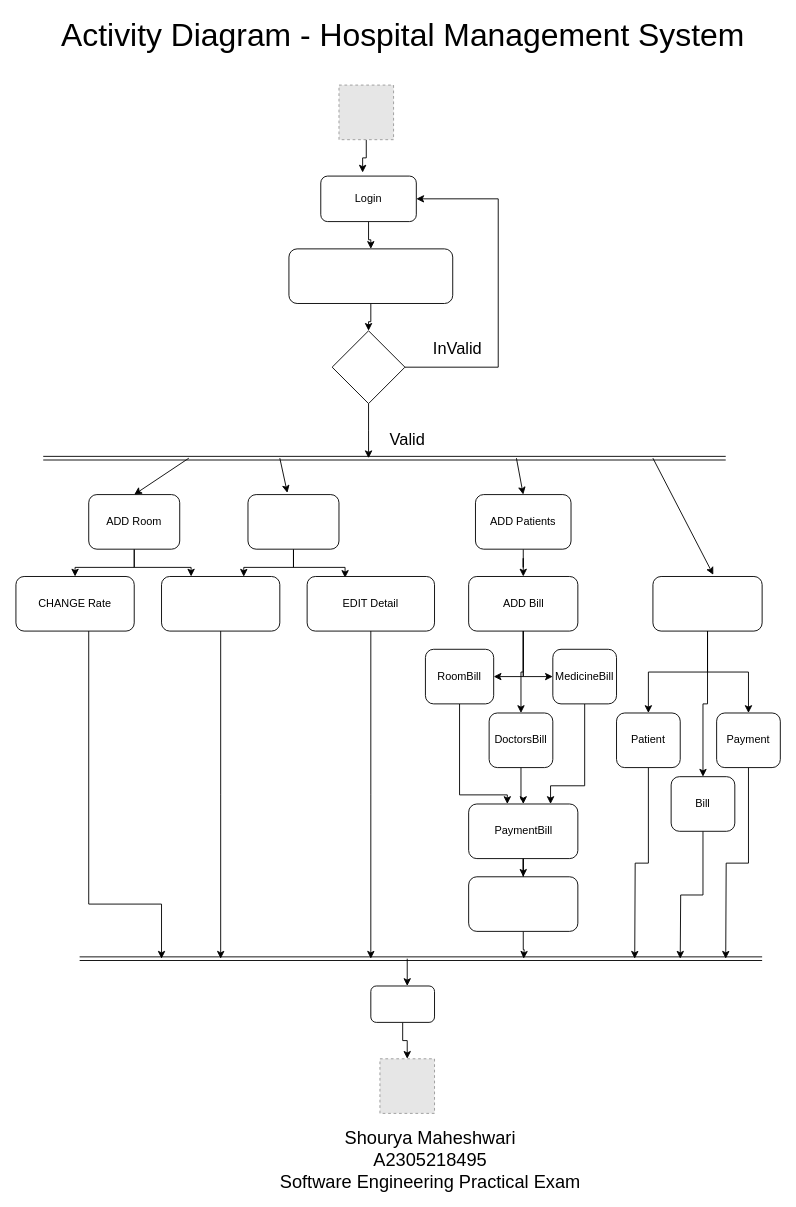
Some shapes in this 796 by 1207 pixel diagram are drawn without their labels. Grey dashed boxes stand in for pictures. The centre of each missing label's shape, as x and y in pixels:
ADD Doctor: (x=293, y=521)
Authentication: (x=370, y=275)
Check: (x=368, y=367)
DELETE: (x=220, y=603)
DischargePatient: (x=523, y=903)
LogOut: (x=402, y=1003)
Reports: (x=707, y=603)
